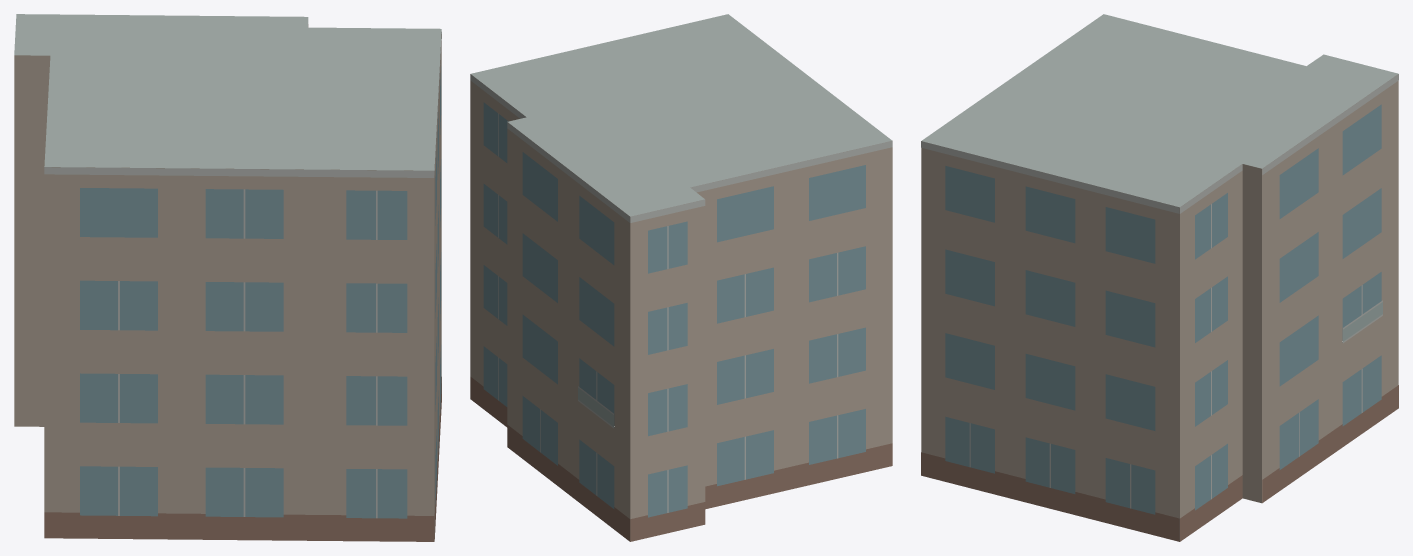
The model's file is residential-c704aa5b-0551-4b6f-93f0-8f9a2d1488b2.glb.
The picture shows the model from 3 angles, left to right: view 1: azimuth 30°, elevation 25°; view 2: azimuth 150°, elevation 25°; view 3: azimuth 270°, elevation 25°; orthographic projection. The views are drawn at different scales.
Visible parts, largest first — view 1: residential-c704aa5b-0551-4b6f-93f0-8f9a2d1488b2.tmp; view 2: residential-c704aa5b-0551-4b6f-93f0-8f9a2d1488b2.tmp; view 3: residential-c704aa5b-0551-4b6f-93f0-8f9a2d1488b2.tmp.
Part boxes in pixels (x1,y1,x2,y2): residential-c704aa5b-0551-4b6f-93f0-8f9a2d1488b2.tmp: (14,14,441,541); residential-c704aa5b-0551-4b6f-93f0-8f9a2d1488b2.tmp: (470,14,892,541); residential-c704aa5b-0551-4b6f-93f0-8f9a2d1488b2.tmp: (921,14,1398,541).
Bounding box in the file's own units: 15.13 × 12.2 × 15.8.
